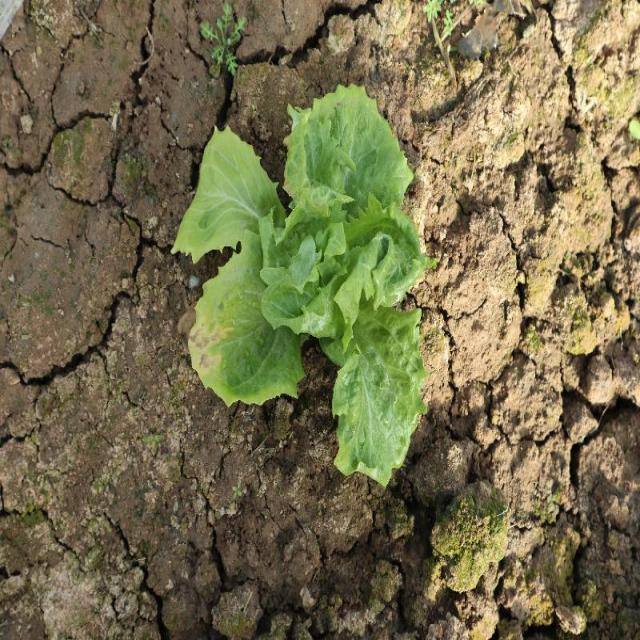crop: (173, 83, 432, 497)
